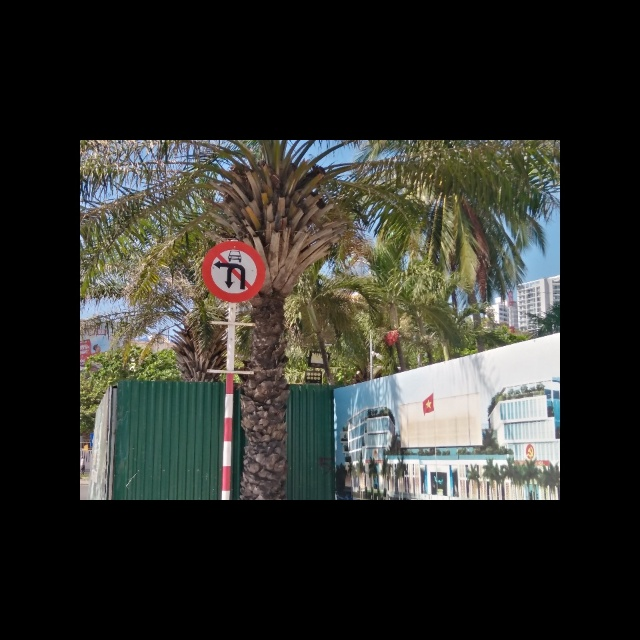Cấm xe ô tô quay đầu và rẽ trái: (198, 240, 268, 303)
